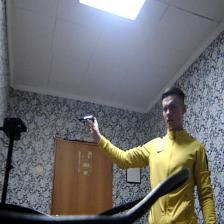drone: (75, 107, 103, 129)
